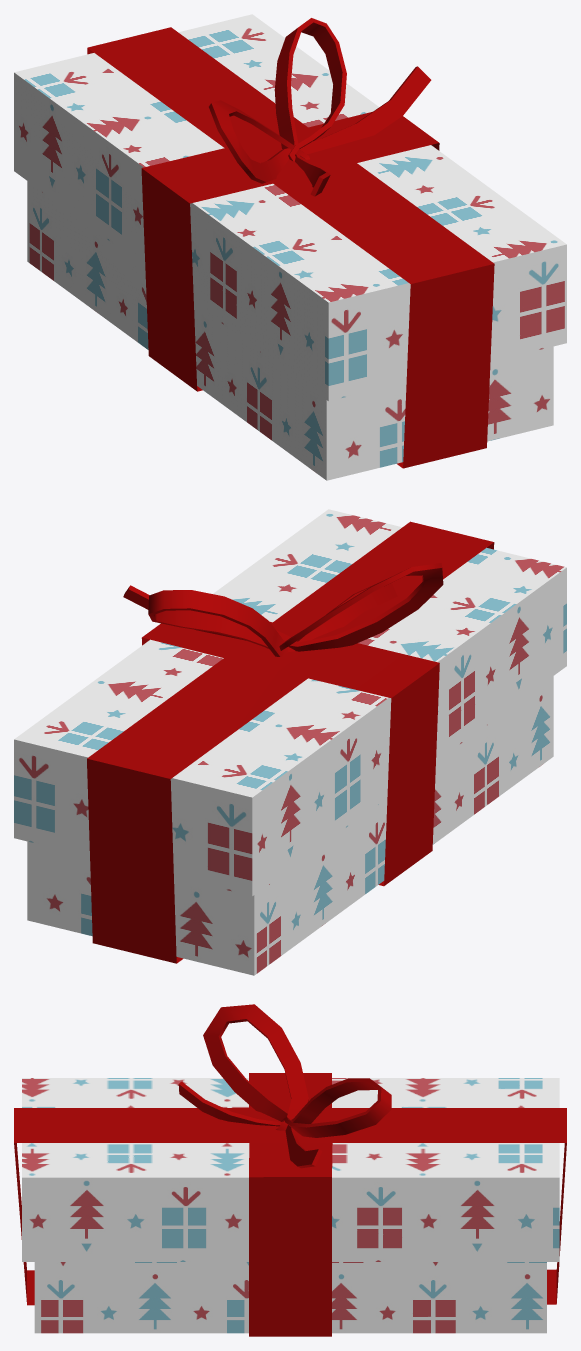
File: gift 05 ribbon01.fbx
The picture shows the model from 3 angles, top to bottom: view 1: azimuth 30°, elevation 25°; view 2: azimuth 150°, elevation 25°; view 3: azimuth 270°, elevation 25°; orthographic projection. The views are drawn at different scales.
Visible parts, largest first — view 1: gift, ribbon_01, Gift05; view 2: gift, ribbon_01, Gift05; view 3: gift, ribbon_01, Gift05.
Boxes of the visible parts, x1,y1,x2,y2 form: gift: [14, 14, 566, 480]; ribbon_01: [87, 27, 494, 468]; Gift05: [209, 18, 431, 196]; gift: [14, 509, 566, 975]; ribbon_01: [87, 521, 494, 963]; Gift05: [123, 563, 443, 656]; gift: [22, 1078, 559, 1333]; ribbon_01: [14, 1073, 566, 1336]; Gift05: [178, 1004, 391, 1168].
Bounding box in the file's own units: 16.57 × 16.08 × 33.38.
2 materials, 1 textured.
